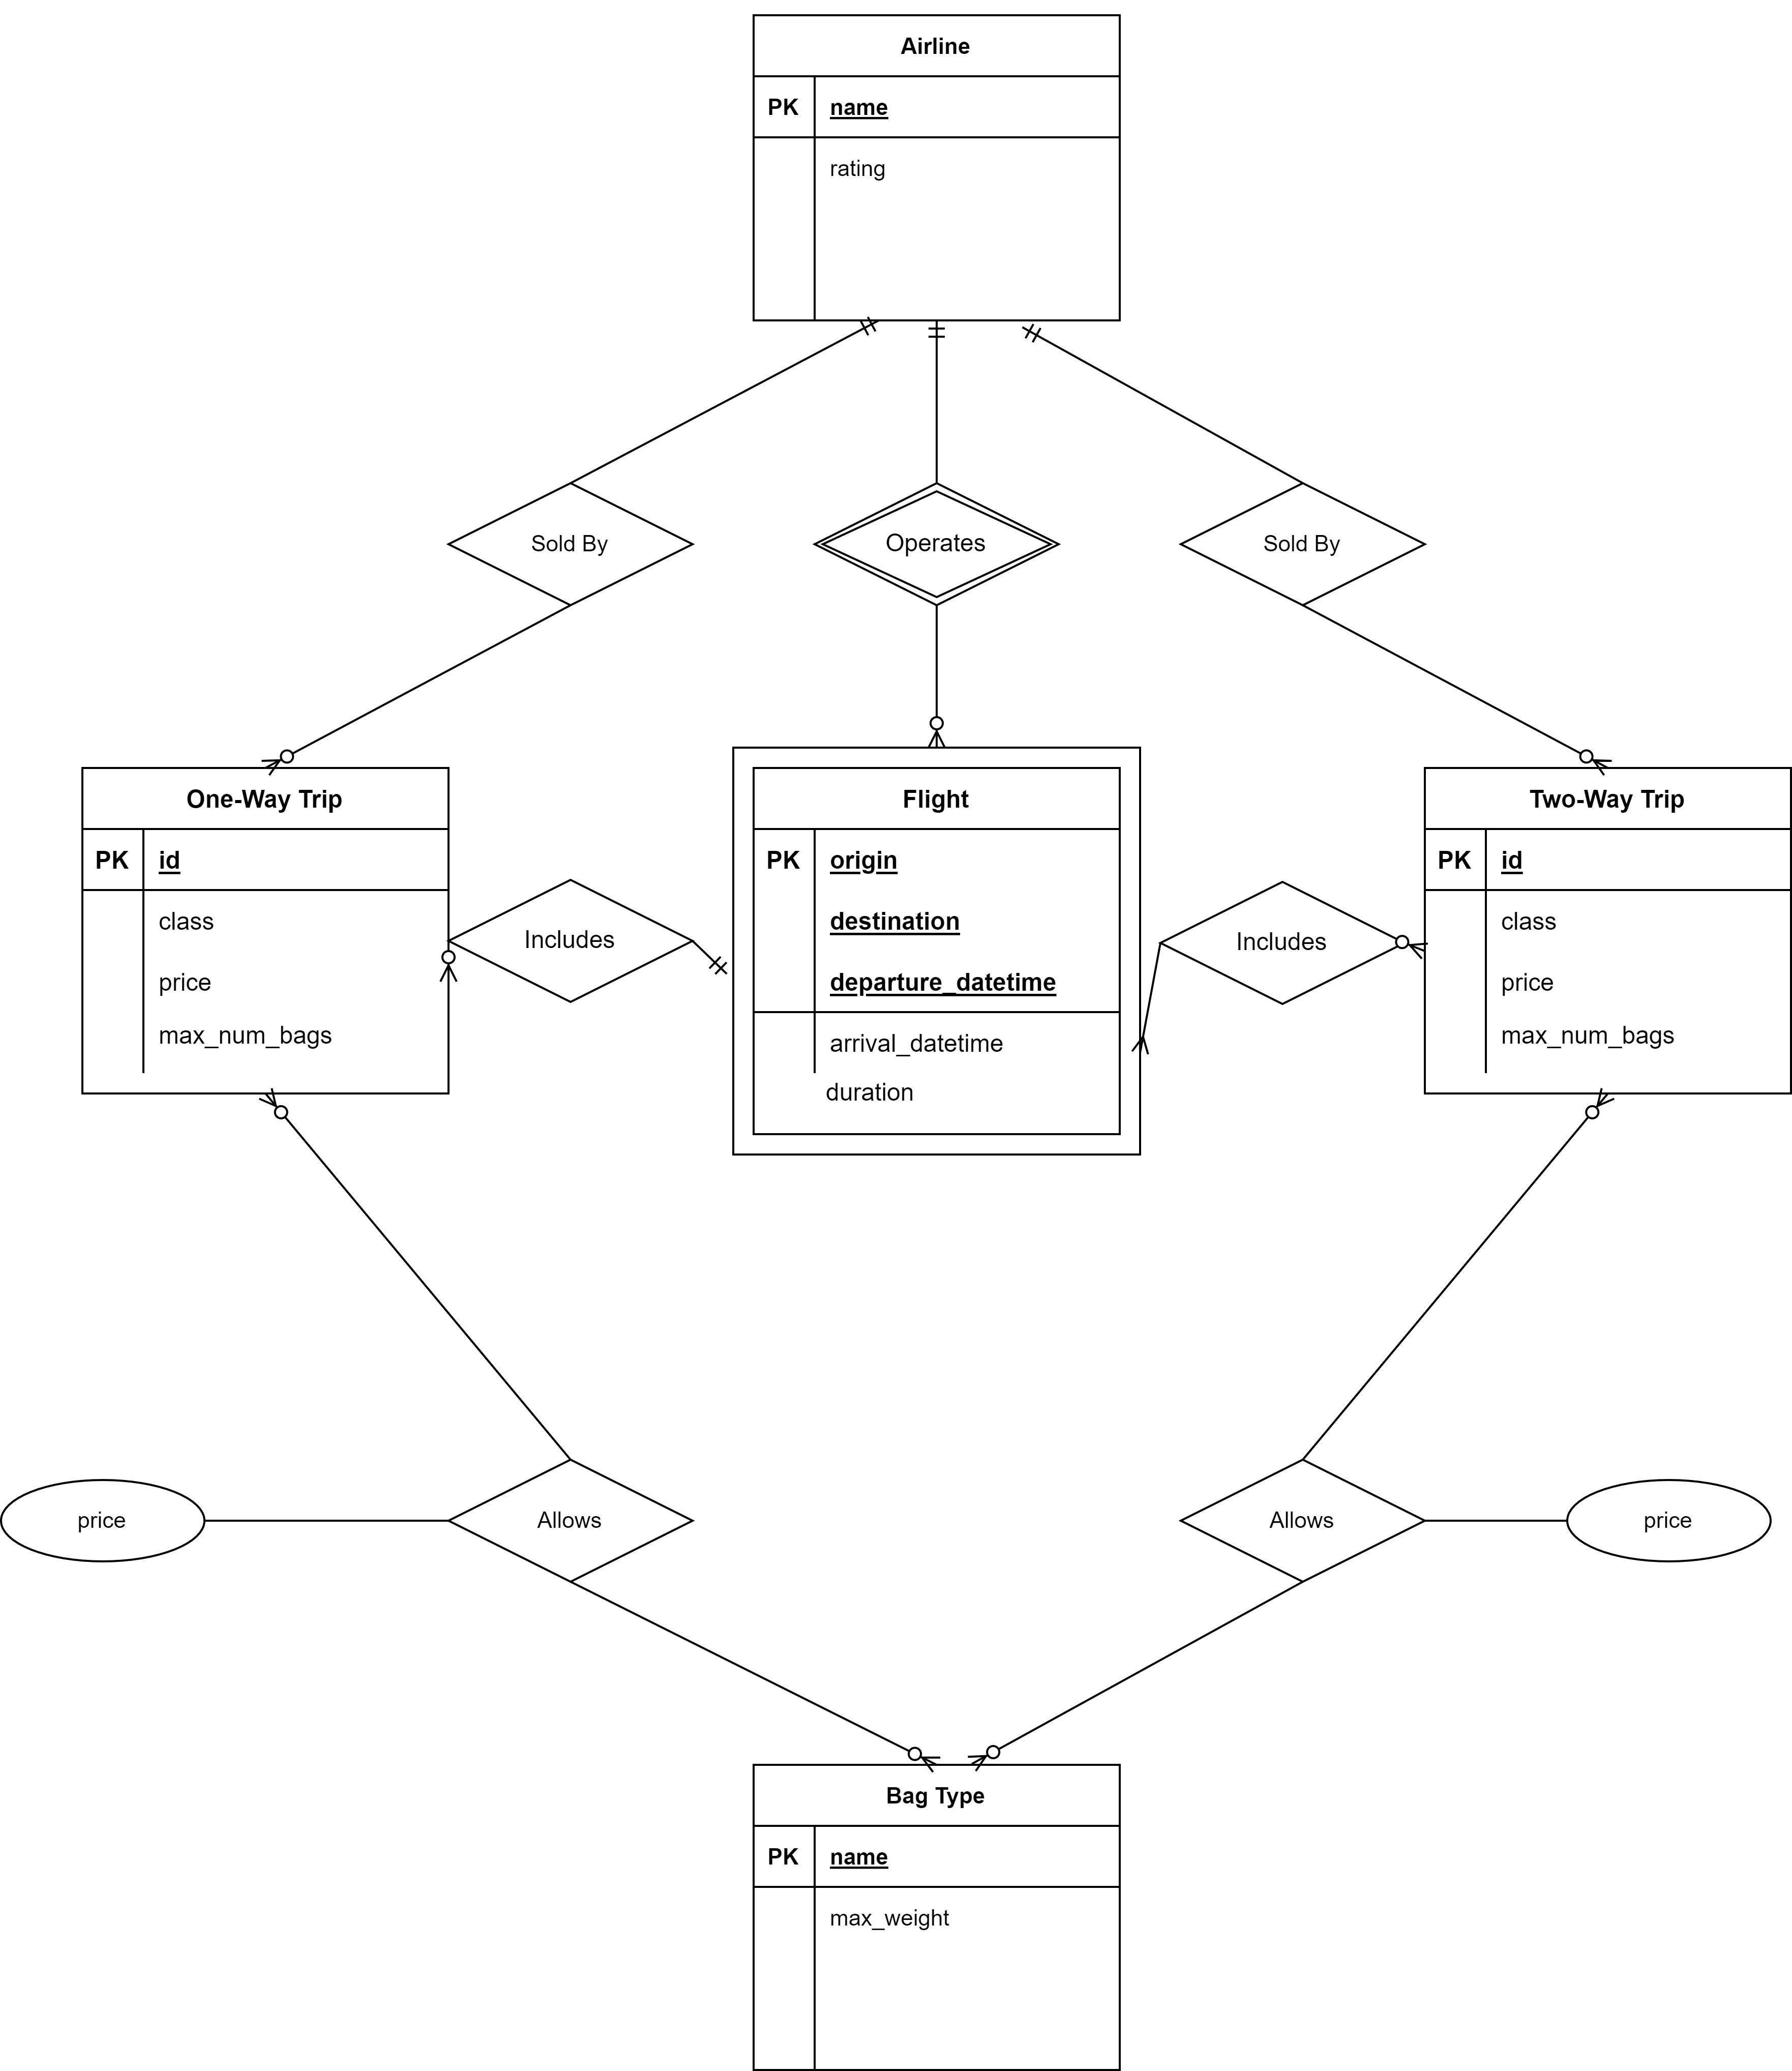attribute: (1565, 1481, 1771, 1566), (0, 1481, 202, 1566)
entity: (722, 736, 1149, 1161), (70, 761, 454, 1097), (1417, 761, 1792, 1102), (746, 11, 1125, 326), (745, 1761, 1125, 2071)
relationship: (1153, 877, 1403, 1011), (445, 477, 697, 608), (1179, 483, 1422, 608), (451, 882, 694, 1000), (1178, 1467, 1421, 1585), (454, 1467, 688, 1583)
weakrelationship: (813, 483, 1058, 608)
